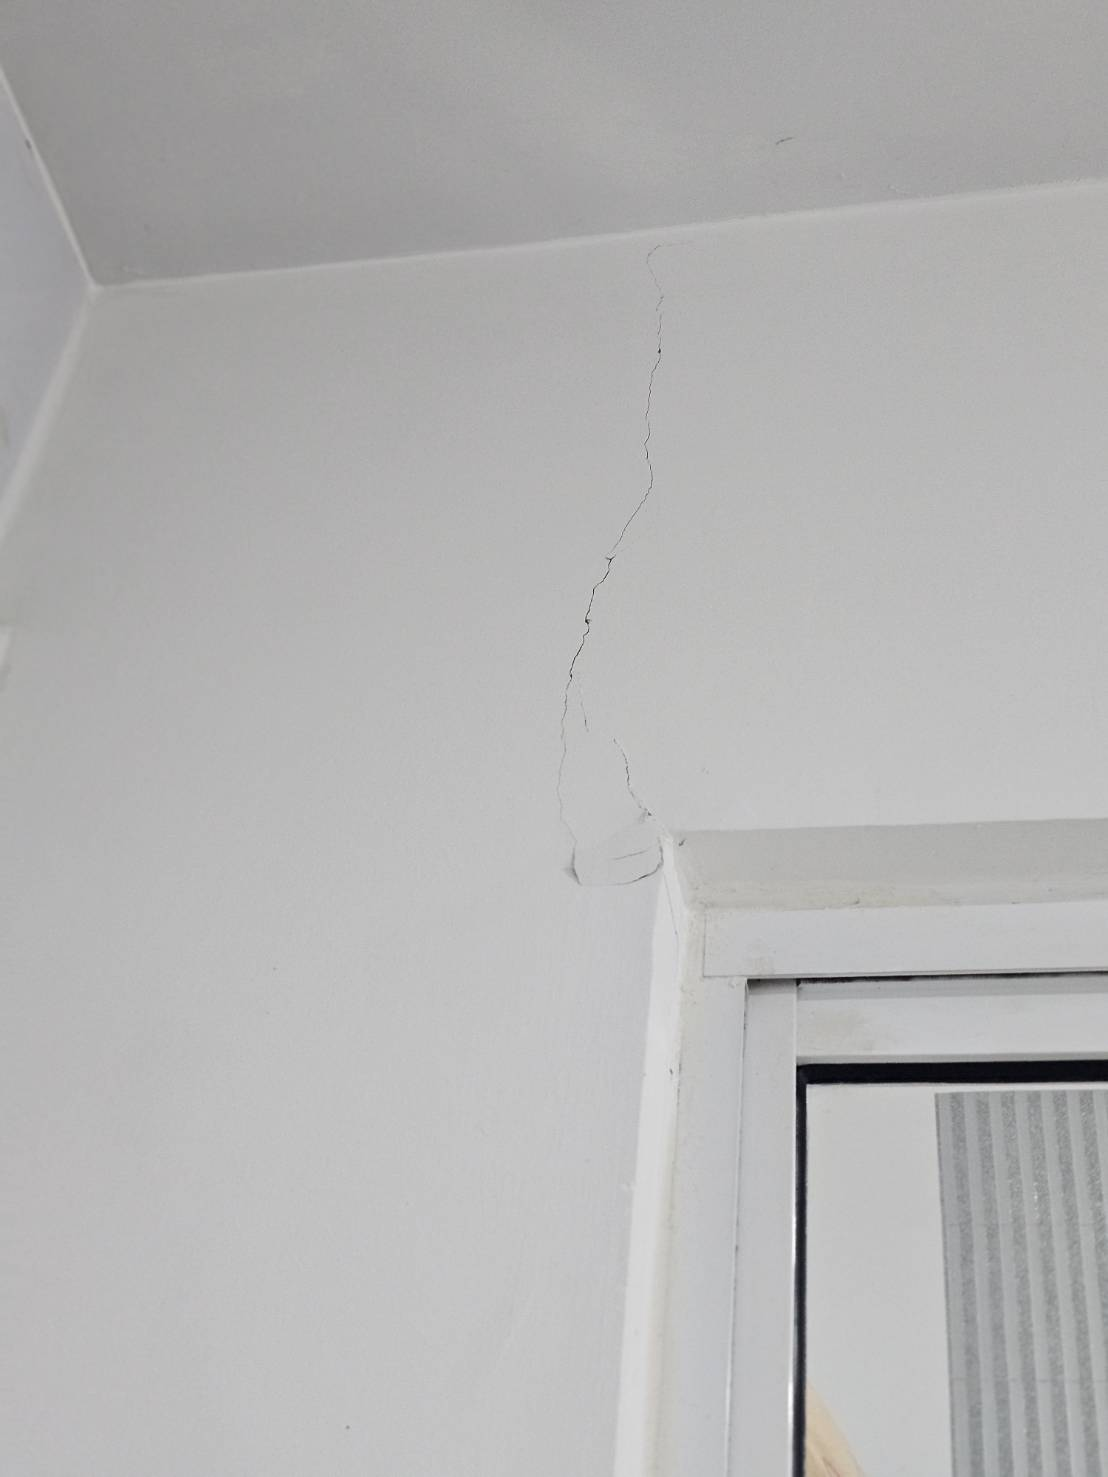Low: (492, 237, 802, 926)
